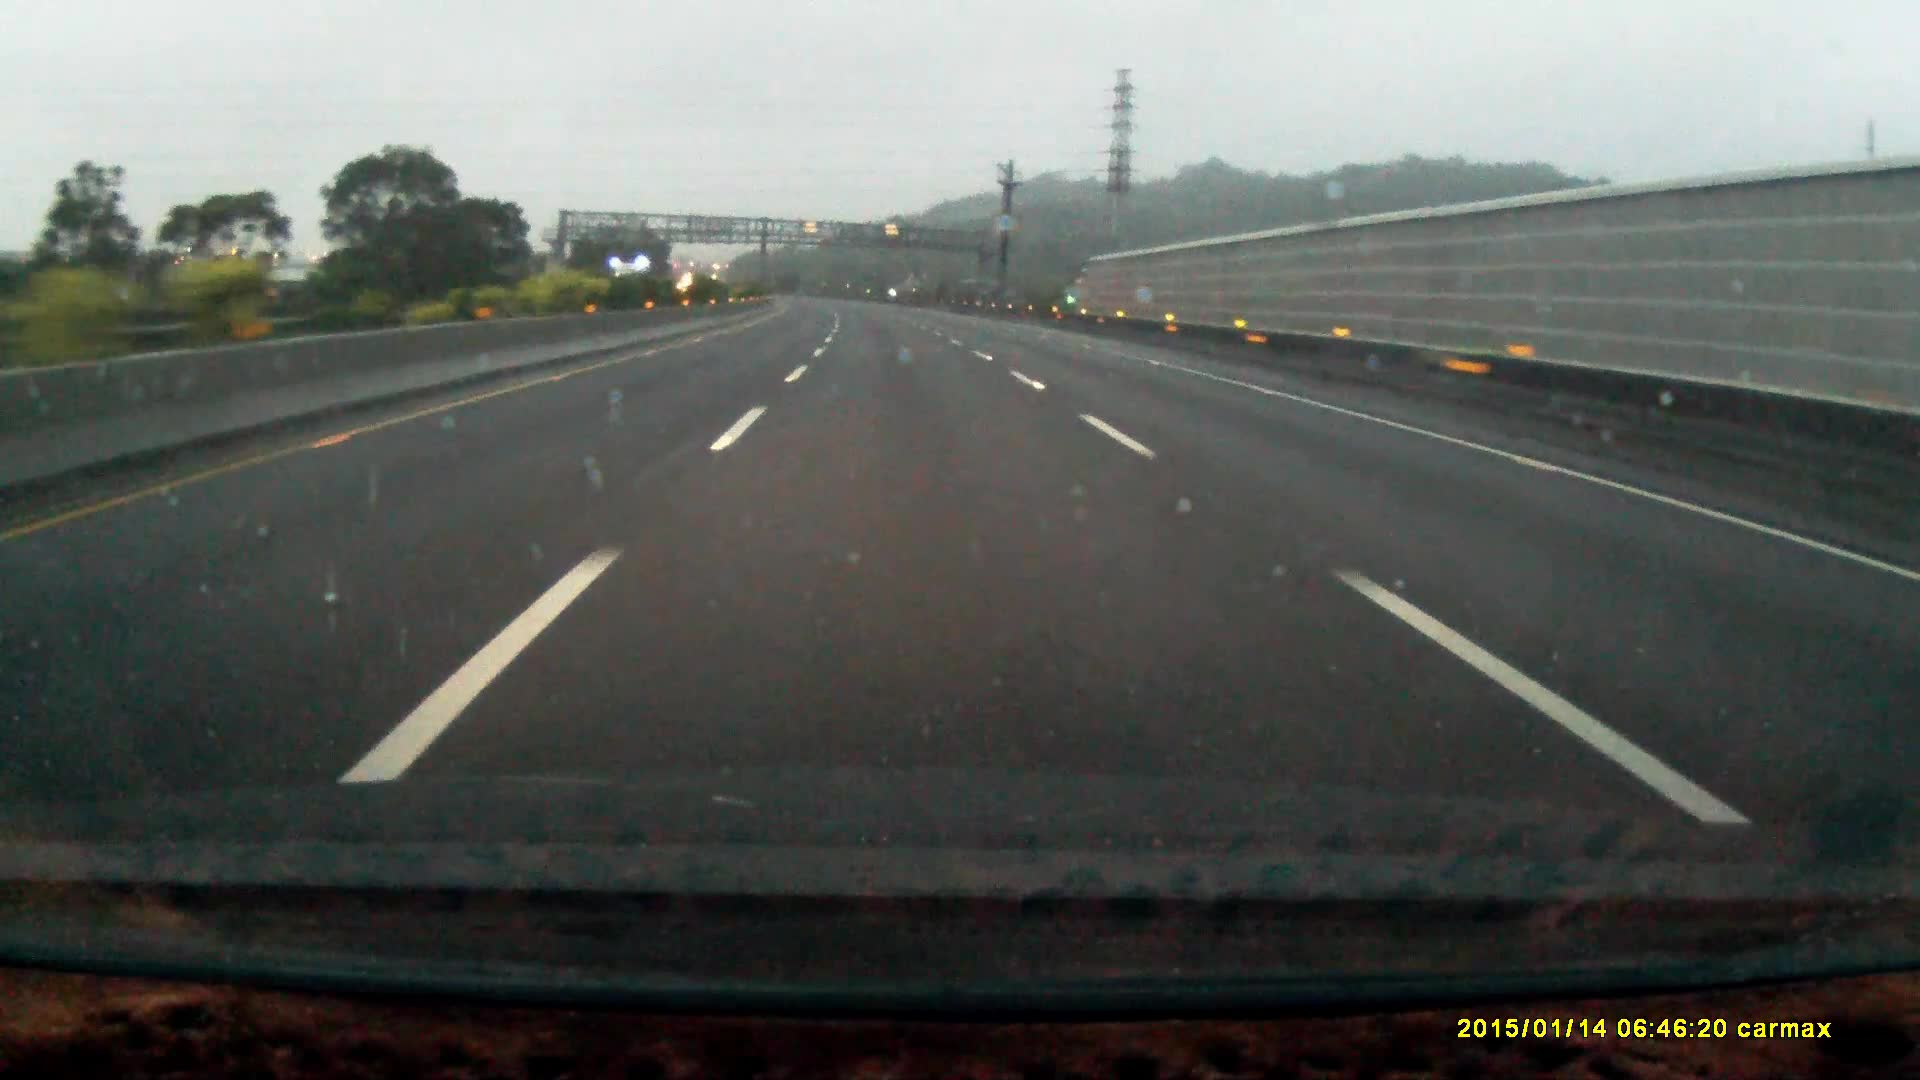vehicle: (611, 261, 654, 311)
